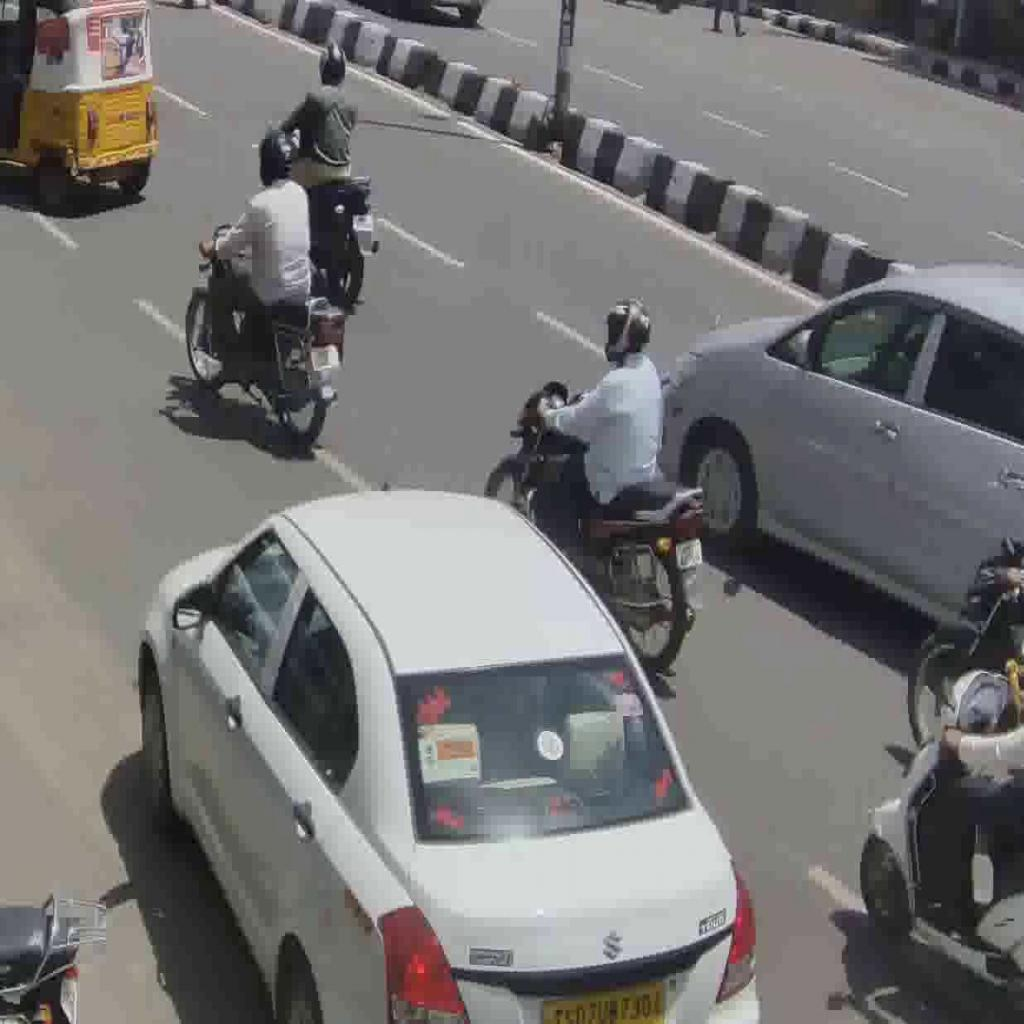helmet: (483, 376, 706, 678), (858, 664, 1024, 996), (184, 219, 347, 449), (310, 170, 380, 307)
